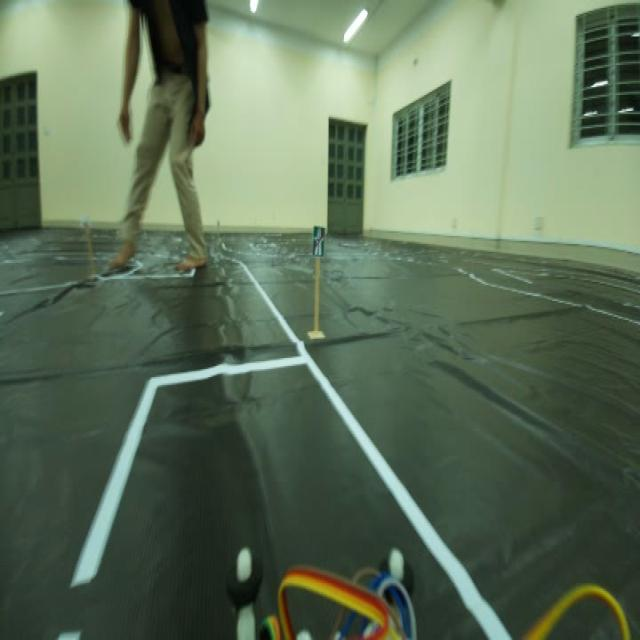highway_exit: (306, 214, 332, 272)
